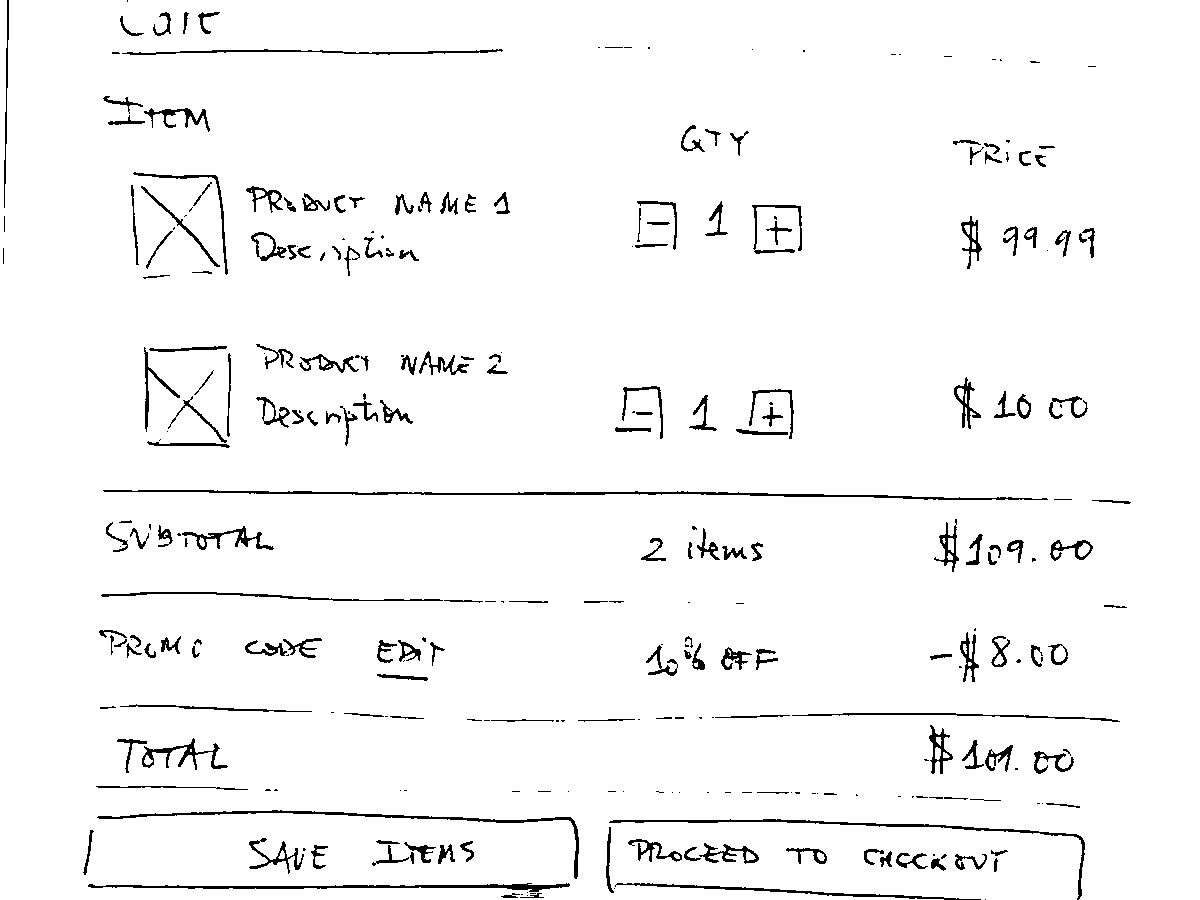Button: (79, 803, 583, 894), (602, 813, 1088, 900)
Image: (127, 166, 232, 287), (139, 342, 235, 450)
